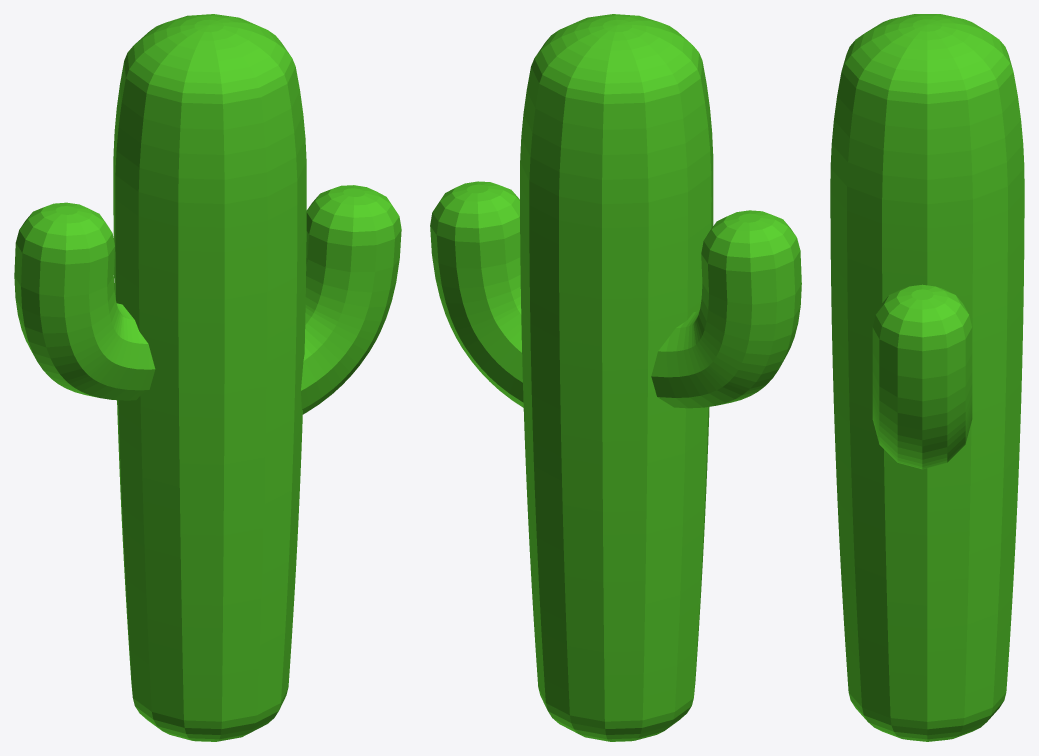
The model's file is Cactus-01.fbx.
The picture shows the model from 3 angles, left to right: view 1: azimuth 30°, elevation 25°; view 2: azimuth 150°, elevation 25°; view 3: azimuth 270°, elevation 25°; orthographic projection.
Visible parts, largest first — view 1: Capsule, Cap_1_2, Cap_1; view 2: Capsule, Cap_1_2, Cap_1; view 3: Capsule, Cap_1.
Part boxes in pixels (box(x1,y1,x2,y2)): Capsule: box(113, 14, 306, 741); Cap_1_2: box(14, 202, 155, 400); Cap_1: box(301, 185, 401, 414); Capsule: box(520, 14, 713, 741); Cap_1_2: box(651, 210, 801, 408); Cap_1: box(430, 181, 523, 407); Capsule: box(830, 14, 1024, 741); Cap_1: box(872, 284, 972, 469).
Size of the model in its own units: 568 by 1047 by 261.
